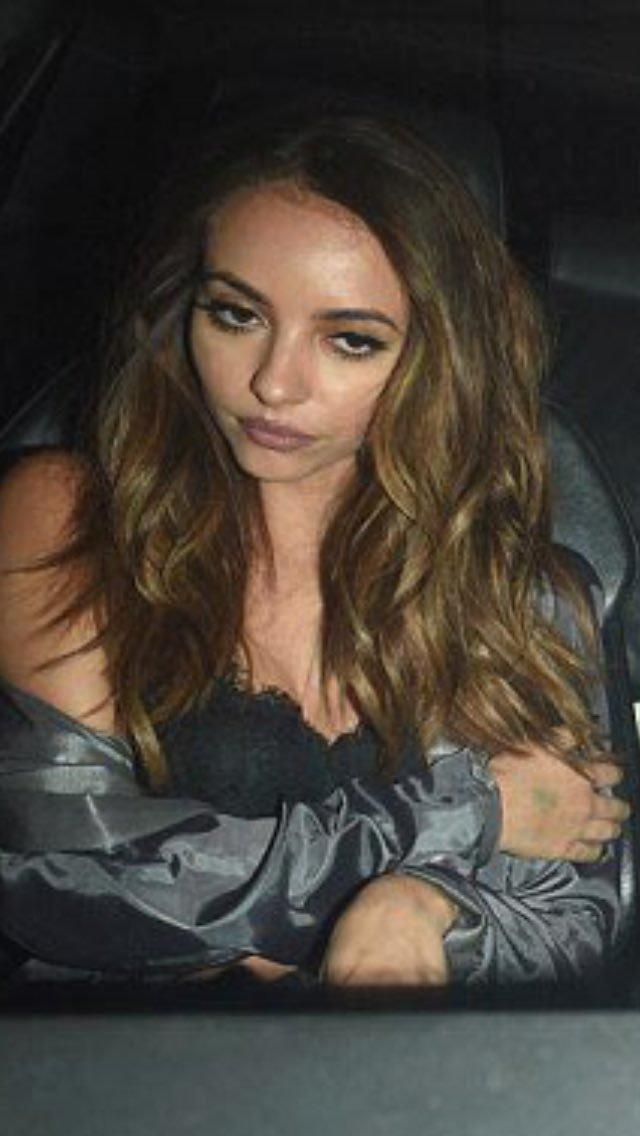Drunk: (191, 206, 403, 474)
